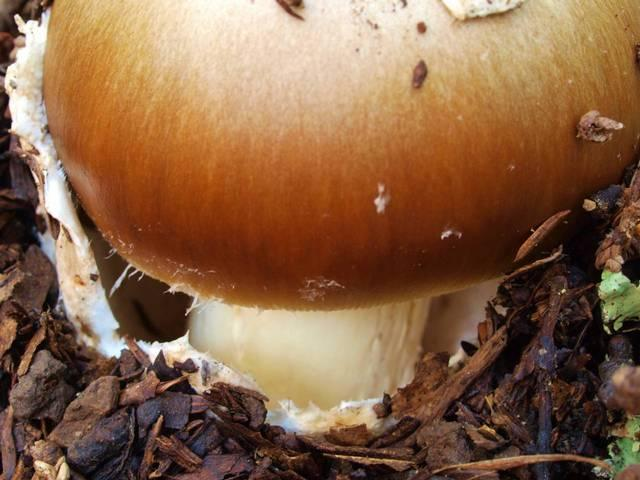Edible Mushroom: (12, 0, 639, 430)
